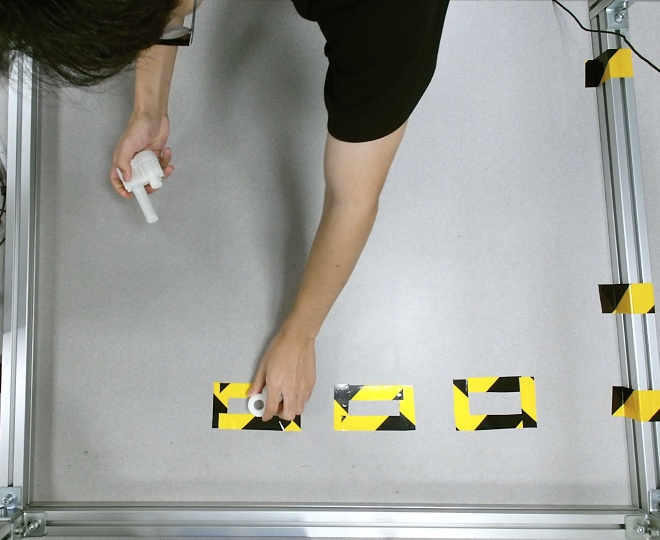stage_3: (118, 148, 165, 225)
